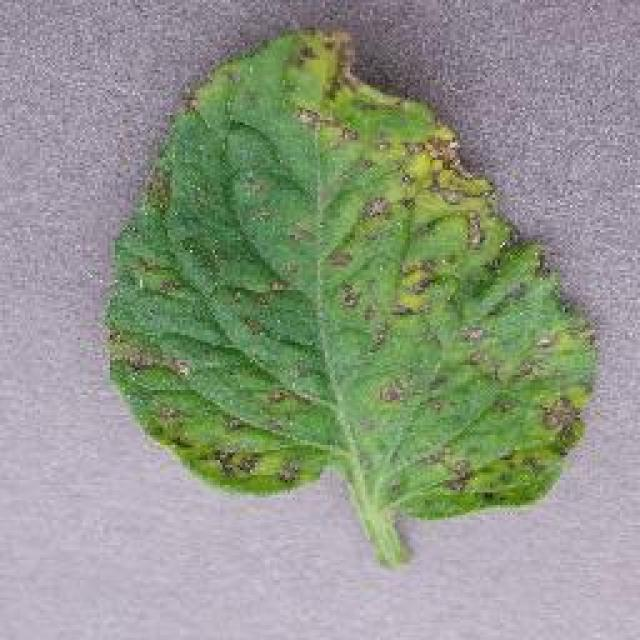Tomato target spot leaf: (100, 21, 598, 569)
